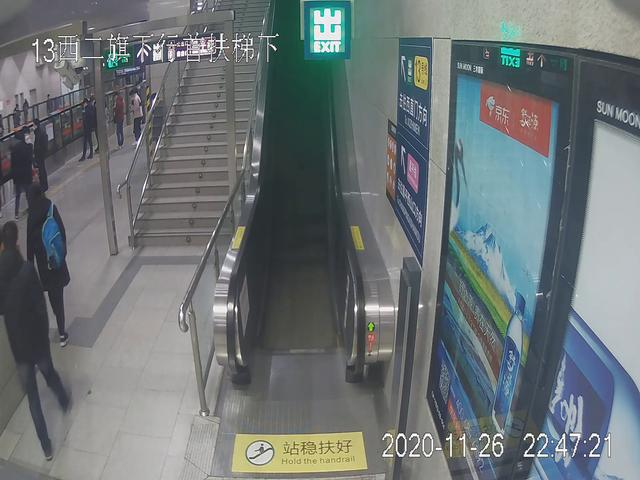person: (1, 219, 67, 472), (20, 184, 68, 352), (4, 127, 33, 212), (31, 117, 51, 211), (77, 95, 96, 160), (107, 91, 126, 145), (125, 89, 142, 148)
